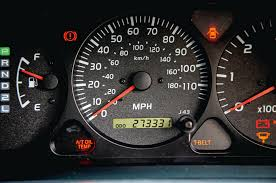Digital_Meter: (110, 117, 181, 129)
